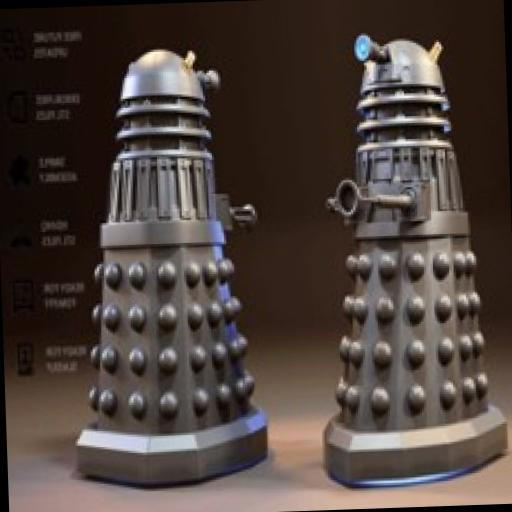dalek: (289, 22, 512, 496), (52, 40, 276, 493)
